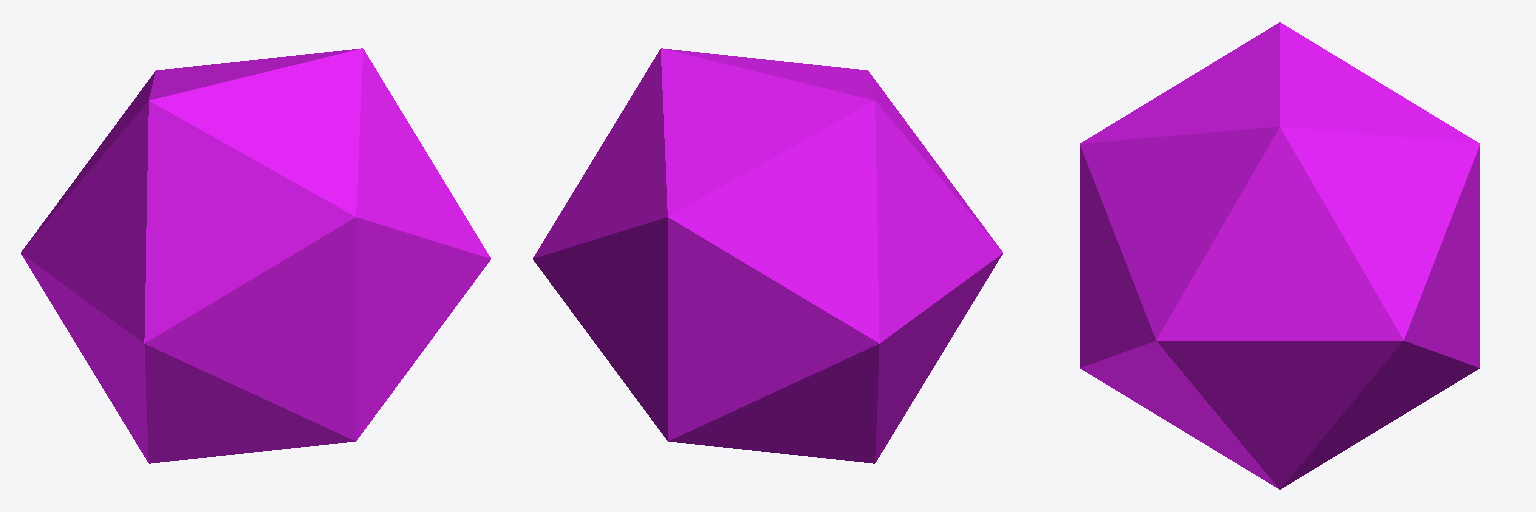
Rendered from Gem.obj.
3 views of the same model, side by side, from view 1: azimuth 30°, elevation 25°; view 2: azimuth 150°, elevation 25°; view 3: azimuth 270°, elevation 25° (orthographic).
Parts seen in each view (by area): view 1: Gem; view 2: Gem; view 3: Gem.
Part boxes in pixels (left/top/right/bottom): Gem: left=21, top=48, right=490, bottom=463; Gem: left=533, top=48, right=1002, bottom=463; Gem: left=1080, top=22, right=1479, bottom=489.
Bounding box in the file's own units: 0.6805 × 0.6805 × 0.6805.